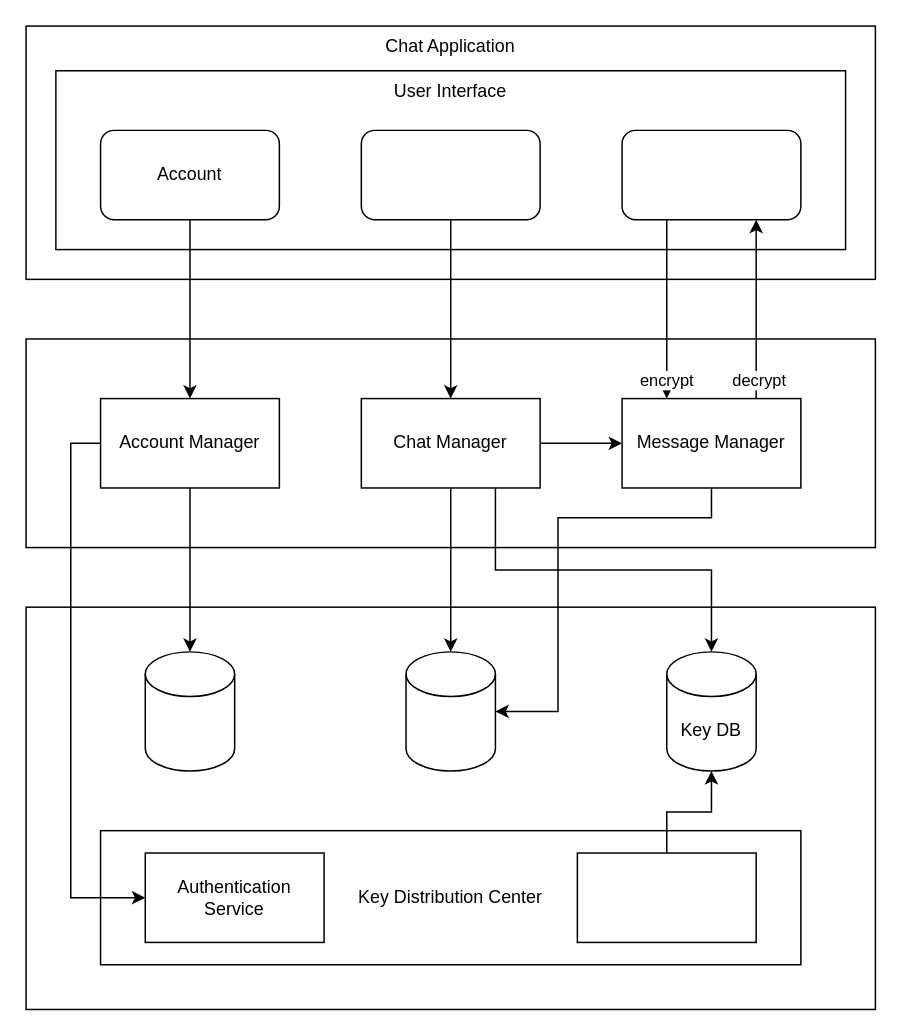
This 901x1036 diagram has some shape labels left out. The centre of each missing label's shape, as x and y in pixels:
"Accounts DB" goes at point (189, 710).
"Chat Messages DB" goes at point (450, 710).
"Chats" goes at point (450, 174).
"Key Register" goes at point (666, 897).
"Messages" goes at point (711, 174).
